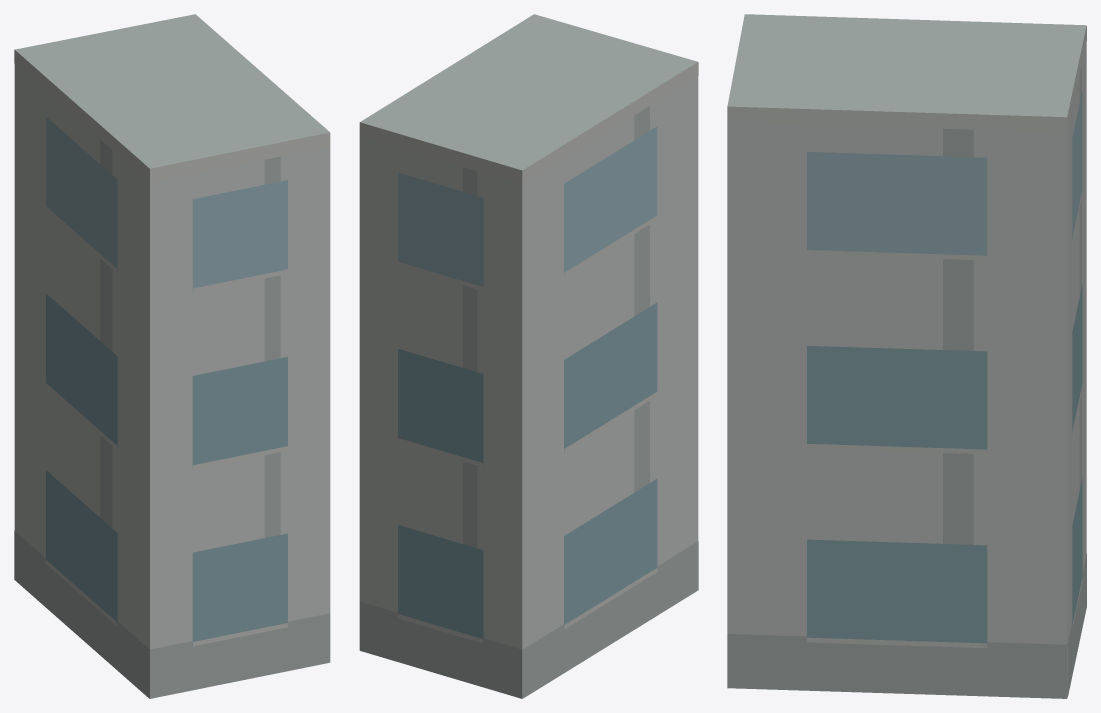
File: survey-upis-32912420.glb
The picture shows the model from 3 angles, left to right: view 1: azimuth 30°, elevation 25°; view 2: azimuth 150°, elevation 25°; view 3: azimuth 270°, elevation 25°; orthographic projection. The views are drawn at different scales.
Parts seen in each view (by area): view 1: survey-upis-32912420.tmp; view 2: survey-upis-32912420.tmp; view 3: survey-upis-32912420.tmp.
Boxes of the visible parts, bbox=[...] form: survey-upis-32912420.tmp: bbox=[14, 14, 330, 698]; survey-upis-32912420.tmp: bbox=[359, 14, 698, 698]; survey-upis-32912420.tmp: bbox=[727, 14, 1086, 698].
Size of the model in its own units: 3.49 by 9.15 by 5.13.
